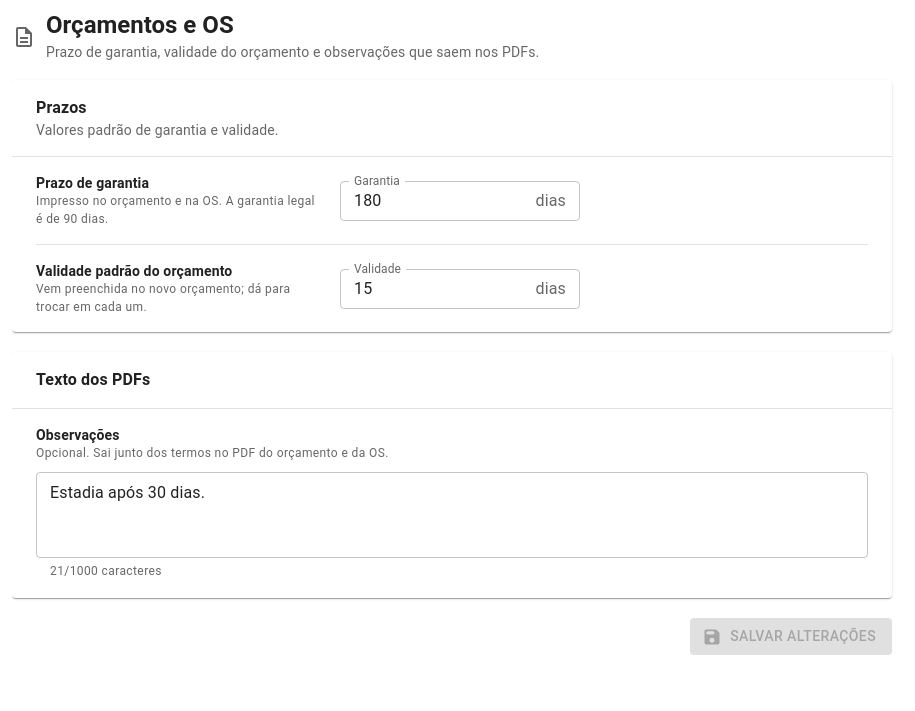
Test: Configurações > Orçamentos e OS › não salva garantia menor que 90 dias e explica o motivo
Replace the text in the number field with test id "garantia-dias" with "30" at (434, 201), box [340,181,528,221]
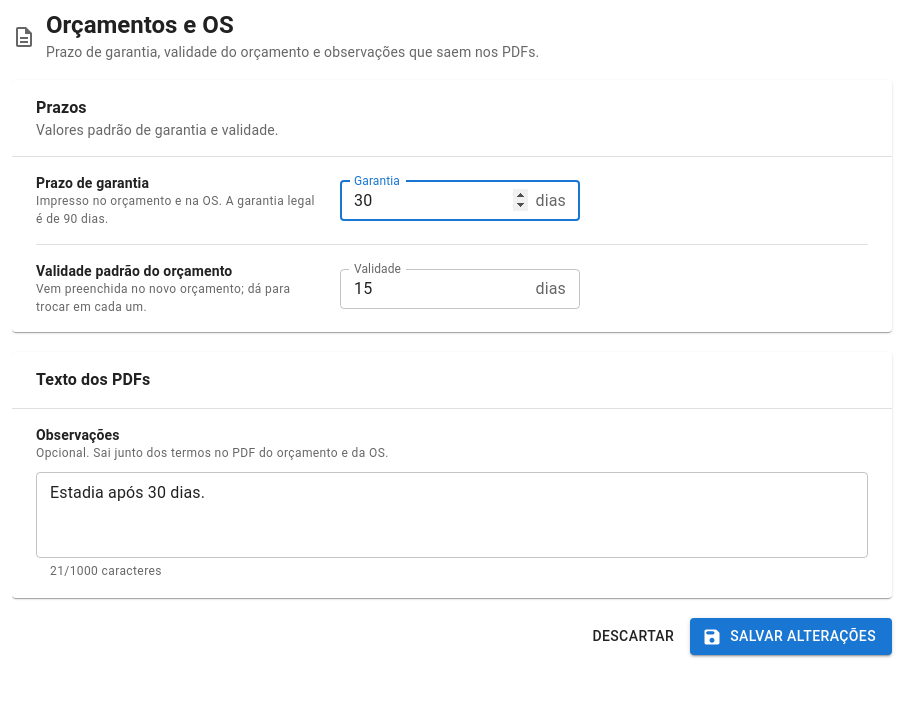
Click the button with test id "save-documentos" at (791, 637), box [690,618,892,655]
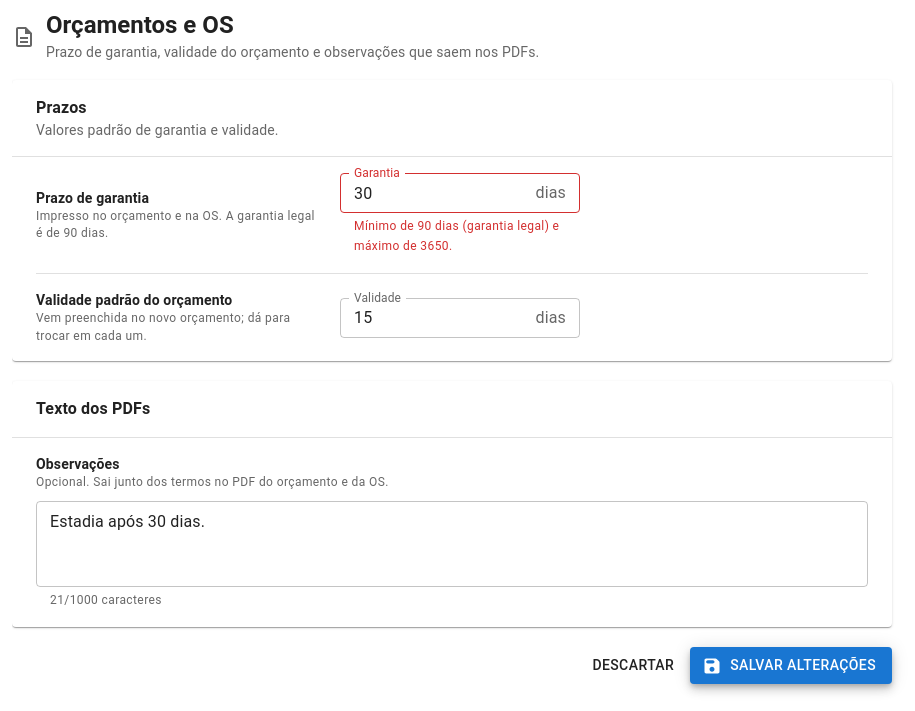
Now the text "Mínimo de 90 dias (garantia legal) e máximo de 3650." is shown, box [354,217,566,257]
